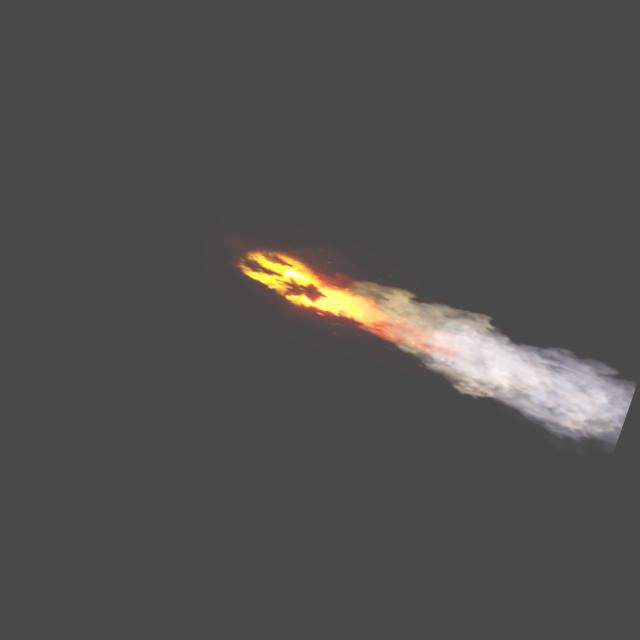fire: (230, 241, 400, 338)
smoke: (348, 276, 637, 452)
